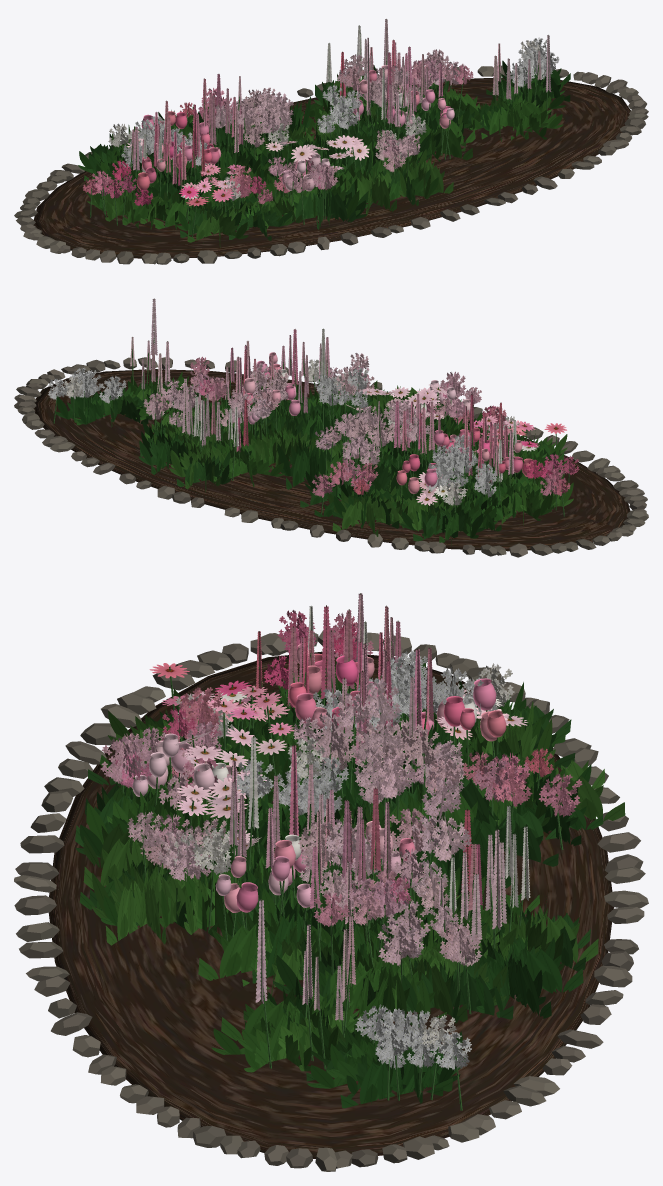
File: flower-bed-3.glb
3 views of the same model, one above another, from view 1: azimuth 30°, elevation 25°; view 2: azimuth 150°, elevation 25°; view 3: azimuth 270°, elevation 25° (orthographic). The views are drawn at different scales.
Visible parts, largest first — view 1: flower-bed-3_FlowerFoliage, flower-bed-3_Mulch, flower-bed-3_FlowerFloret, flower-bed-3_EdgeStone, flower-bed-3_FlowerSpike, flower-bed-3_FlowerStem, flower-bed-3_FlowerCup, flower-bed-3_FlowerDaisy; view 2: flower-bed-3_FlowerFoliage, flower-bed-3_Mulch, flower-bed-3_FlowerFloret, flower-bed-3_EdgeStone, flower-bed-3_FlowerSpike, flower-bed-3_FlowerStem, flower-bed-3_FlowerCup, flower-bed-3_FlowerDaisy; view 3: flower-bed-3_FlowerFoliage, flower-bed-3_Mulch, flower-bed-3_FlowerFloret, flower-bed-3_EdgeStone, flower-bed-3_FlowerSpike, flower-bed-3_FlowerCup, flower-bed-3_FlowerStem, flower-bed-3_FlowerDaisy.
Part boxes in pixels (x1=…): flower-bed-3_FlowerFoliage: x1=78, y1=60, x2=570, y2=247; flower-bed-3_Mulch: x1=33, y1=77, x2=630, y2=258; flower-bed-3_FlowerFloret: x1=83, y1=37, x2=559, y2=205; flower-bed-3_EdgeStone: x1=14, y1=65, x2=648, y2=264; flower-bed-3_FlowerSpike: x1=131, y1=19, x2=551, y2=185; flower-bed-3_FlowerStem: x1=90, y1=56, x2=548, y2=237; flower-bed-3_FlowerCup: x1=136, y1=65, x2=454, y2=191; flower-bed-3_FlowerDaisy: x1=127, y1=130, x2=369, y2=206; flower-bed-3_FlowerFoliage: x1=54, y1=370, x2=573, y2=545; flower-bed-3_Mulch: x1=33, y1=369, x2=630, y2=551; flower-bed-3_FlowerFloret: x1=48, y1=353, x2=579, y2=505; flower-bed-3_EdgeStone: x1=14, y1=357, x2=648, y2=557; flower-bed-3_FlowerSpike: x1=130, y1=298, x2=516, y2=482; flower-bed-3_FlowerStem: x1=53, y1=338, x2=569, y2=516; flower-bed-3_FlowerCup: x1=243, y1=352, x2=533, y2=493; flower-bed-3_FlowerDaisy: x1=346, y1=384, x2=566, y2=505; flower-bed-3_FlowerFoliage: x1=75, y1=659, x2=625, y2=1108; flower-bed-3_Mulch: x1=48, y1=651, x2=613, y2=1158; flower-bed-3_FlowerFloret: x1=100, y1=610, x2=582, y2=1070; flower-bed-3_EdgeStone: x1=14, y1=630, x2=648, y2=1171; flower-bed-3_FlowerSpike: x1=229, y1=593, x2=530, y2=1021; flower-bed-3_FlowerCup: x1=132, y1=644, x2=506, y2=912; flower-bed-3_FlowerStem: x1=122, y1=641, x2=563, y2=1110; flower-bed-3_FlowerDaisy: x1=149, y1=663, x2=527, y2=855.
Size of the model in its own units: 5.16 by 0.9558 by 2.58.
Materials: 8 (5 with a texture image).
